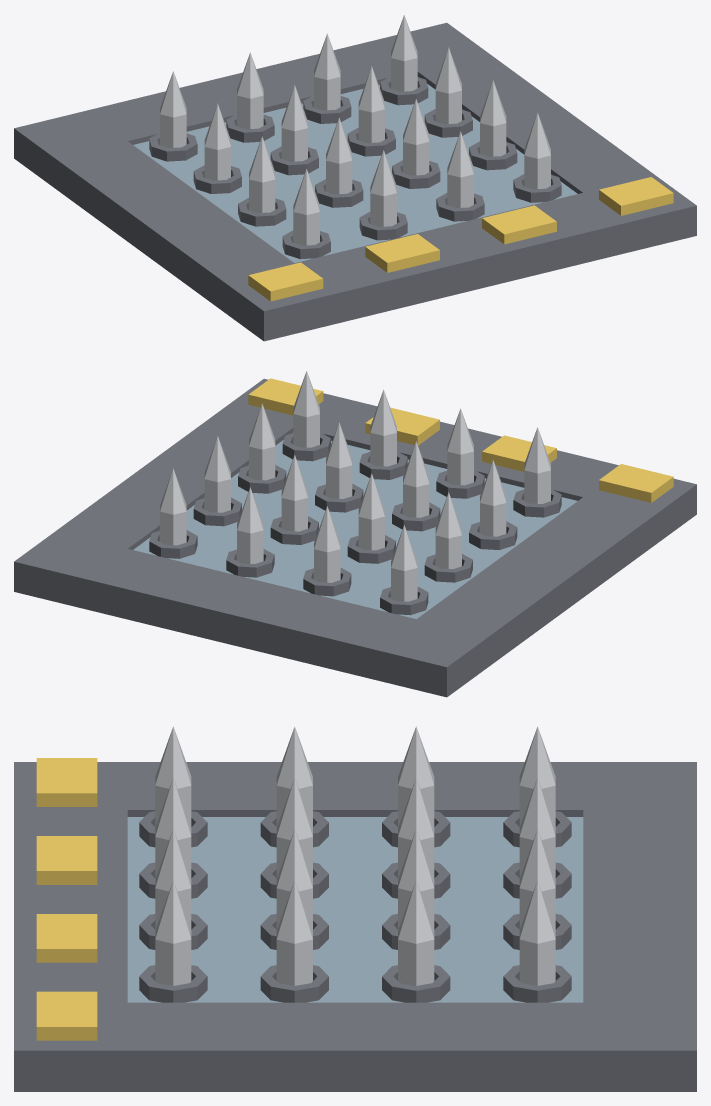
File: animated-mechanisms-kit-spike-trap-d216273e__24650.glb
3 views of the same model, one above another, from view 1: azimuth 30°, elevation 25°; view 2: azimuth 150°, elevation 25°; view 3: azimuth 270°, elevation 25° (orthographic). The views are drawn at different scales.
Parts seen in each view (by area): view 1: spike-trap, spikes; view 2: spike-trap, spikes; view 3: spike-trap, spikes.
Boxes of the visible parts, left/top/right/bottom form: spike-trap: left=14, top=22, right=696, bottom=341; spikes: left=160, top=15, right=550, bottom=245; spike-trap: left=14, top=378, right=696, bottom=697; spikes: left=160, top=371, right=550, bottom=601; spike-trap: left=14, top=758, right=696, bottom=1091; spikes: left=155, top=726, right=555, bottom=985.
Bounding box in the file's own units: 1.8 × 0.42 × 1.8.
